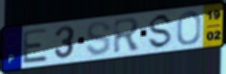3: (52, 25, 76, 61)
E: (21, 27, 50, 66)
O: (176, 10, 203, 47)
R: (113, 17, 143, 56)
S: (146, 12, 175, 51), (85, 20, 113, 57)
